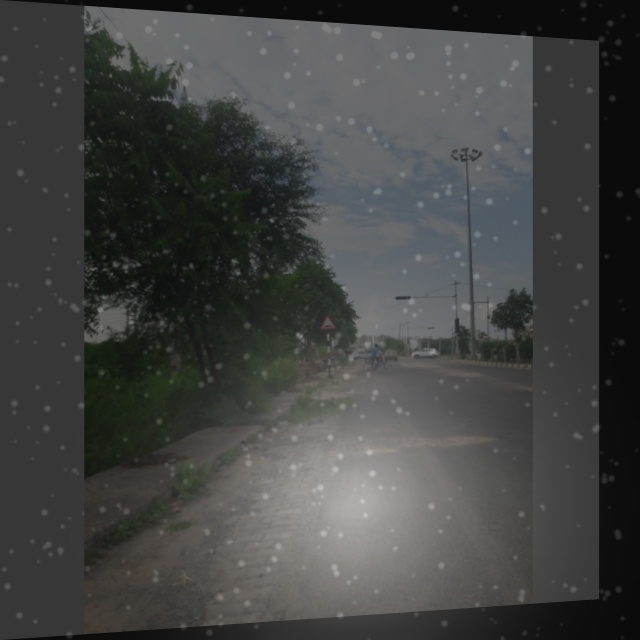Hump_or_Rough_Road: (318, 314, 336, 332)
